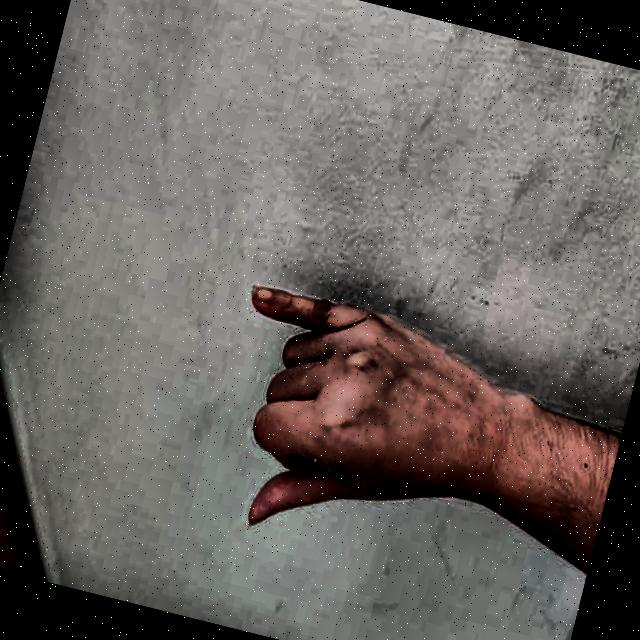Oi: (172, 224, 535, 610)
